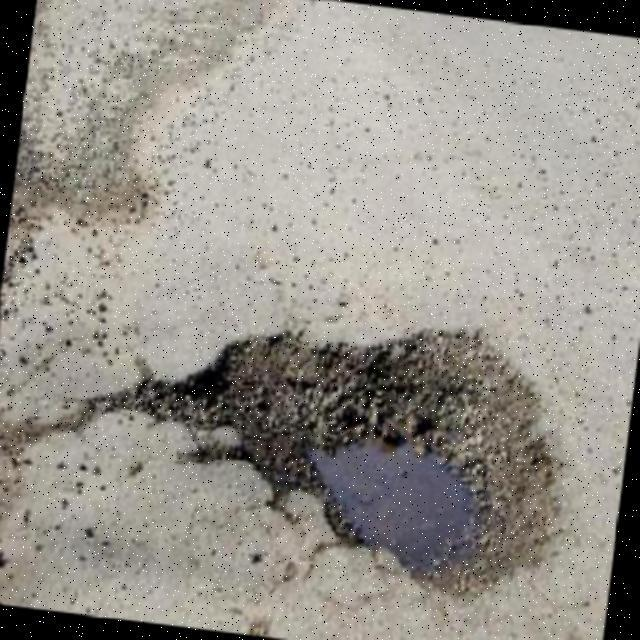Pothole: (85, 330, 553, 598)
